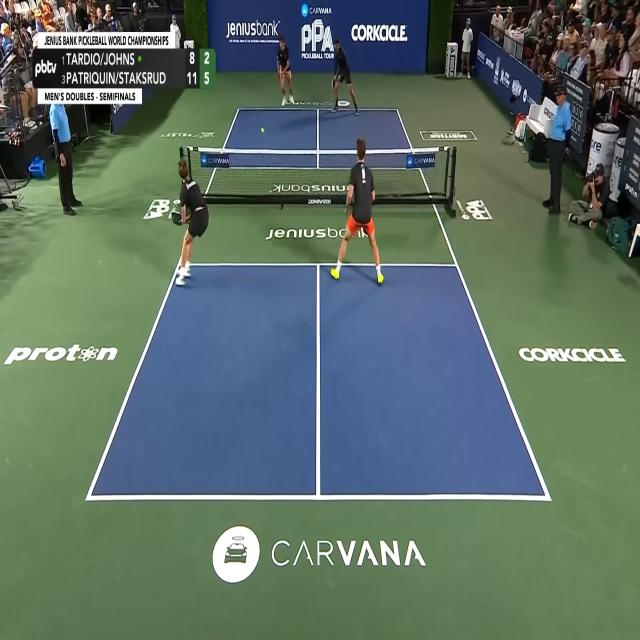ball: (261, 127, 264, 133)
